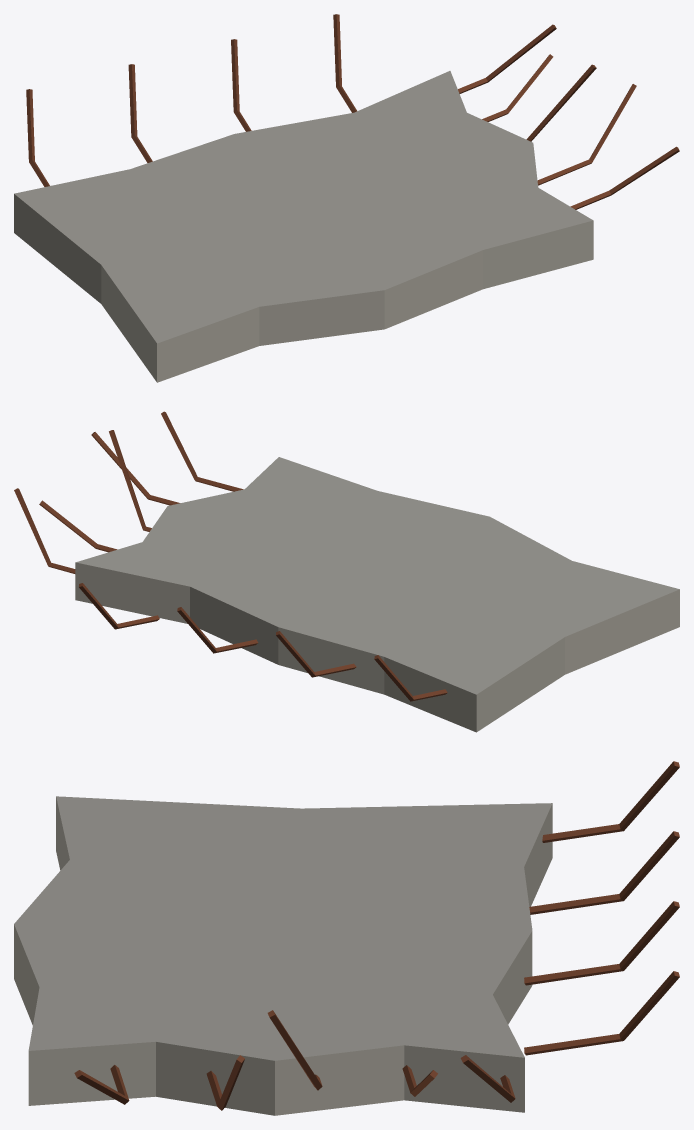
Rendered from debris_nyc_concrete_slab.glb.
3 renders of one model, top to bottom at view 1: azimuth 30°, elevation 25°; view 2: azimuth 150°, elevation 25°; view 3: azimuth 270°, elevation 25°, orthographic. The views are drawn at different scales.
Visible parts, largest first — view 1: debris_nyc_concrete_slab; view 2: debris_nyc_concrete_slab; view 3: debris_nyc_concrete_slab.
Part boxes in pixels (bbox=[...]): debris_nyc_concrete_slab: bbox=[14, 14, 679, 382]; debris_nyc_concrete_slab: bbox=[14, 411, 679, 732]; debris_nyc_concrete_slab: bbox=[14, 761, 679, 1115].
Bounding box in the file's own units: 3.2 × 0.7651 × 2.41.
Materials: 1 (1 with a texture image).
